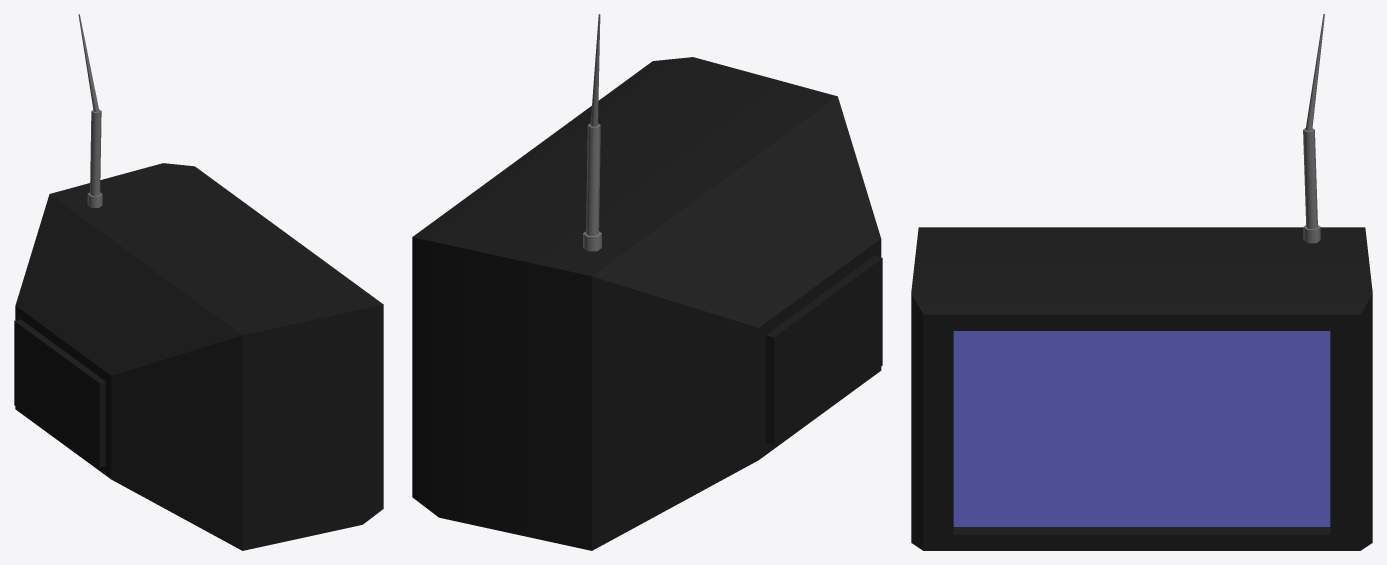
3 renders of one model, left to right at view 1: azimuth 30°, elevation 25°; view 2: azimuth 150°, elevation 25°; view 3: azimuth 270°, elevation 25°, orthographic. The views are drawn at different scales.
Parts seen in each view (by area): view 1: Cube.002, Cylinder.014; view 2: Cube.002, Cylinder.014; view 3: Cube.002, Cylinder.014.
Part boxes in pixels (x1=…): Cube.002: x1=14, y1=163, x2=383, y2=550; Cylinder.014: x1=78, y1=14, x2=102, y2=207; Cube.002: x1=412, y1=57, x2=882, y2=550; Cylinder.014: x1=583, y1=14, x2=601, y2=251; Cube.002: x1=911, y1=227, x2=1372, y2=550; Cylinder.014: x1=1303, y1=14, x2=1324, y2=243.
Bounding box in the file's own units: 1.29 × 2.16 × 1.92.
